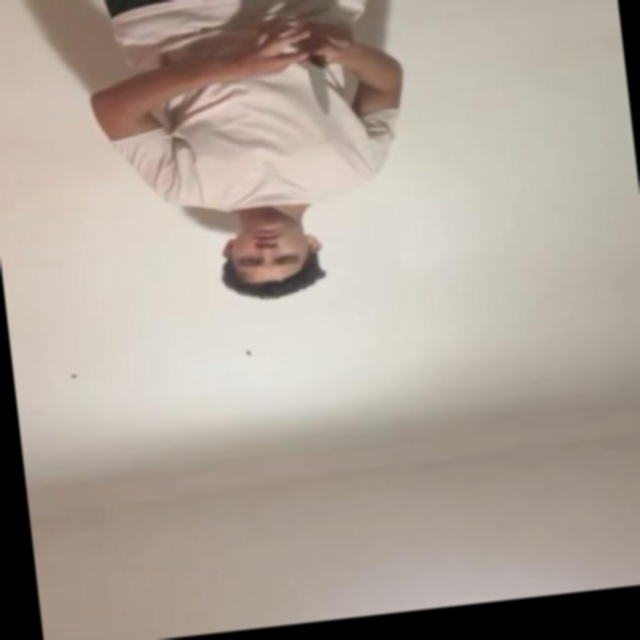Sharp-Object: (304, 59, 332, 113)
